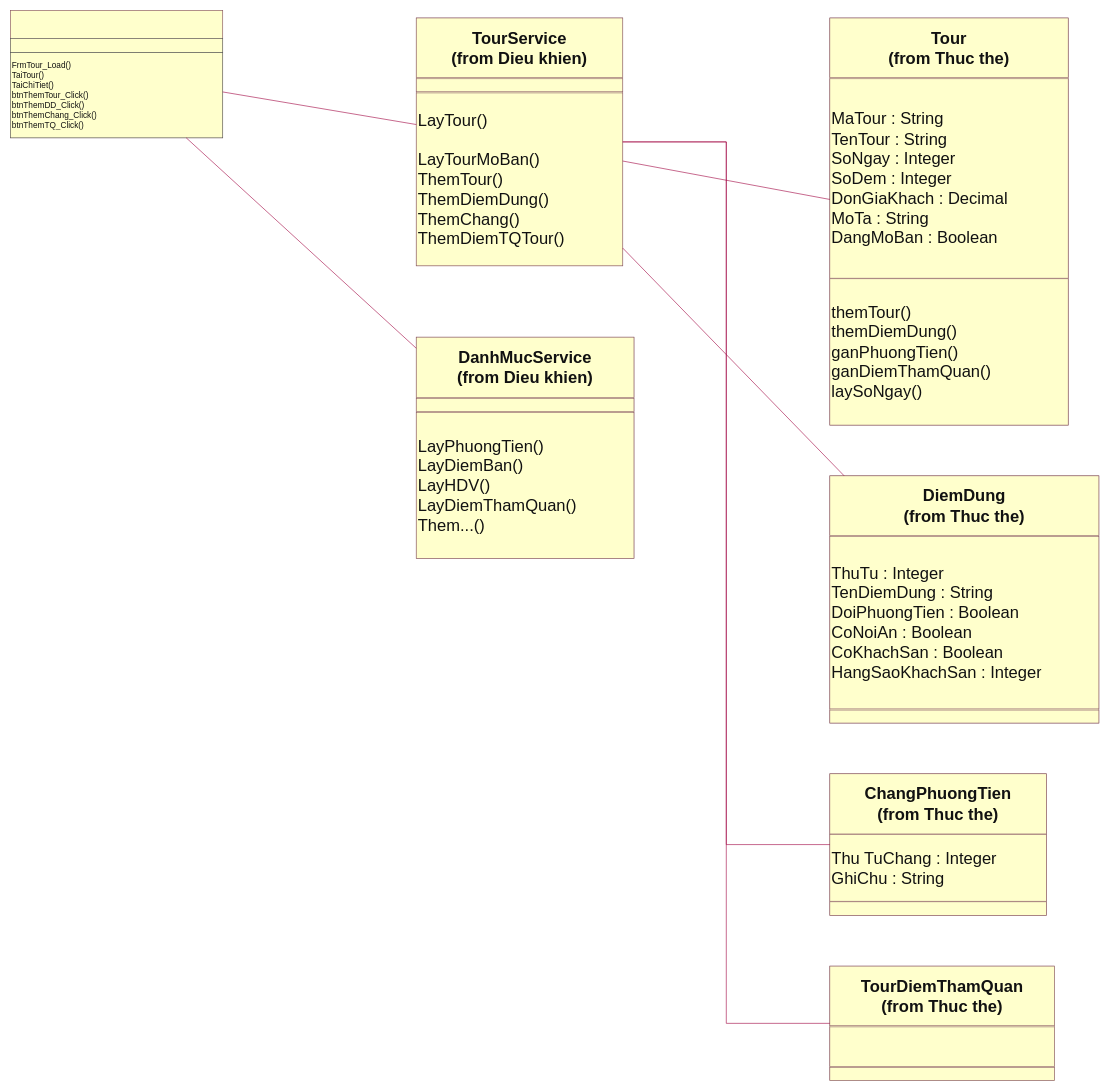
Image size: 1109x1091. Some labels were removed from this diagram. Each missing label, with the box of its shape:
ThuTu : Integer: (829, 1026, 1055, 1066)
«boundary» FrmTour: (10, 10, 223, 39)
